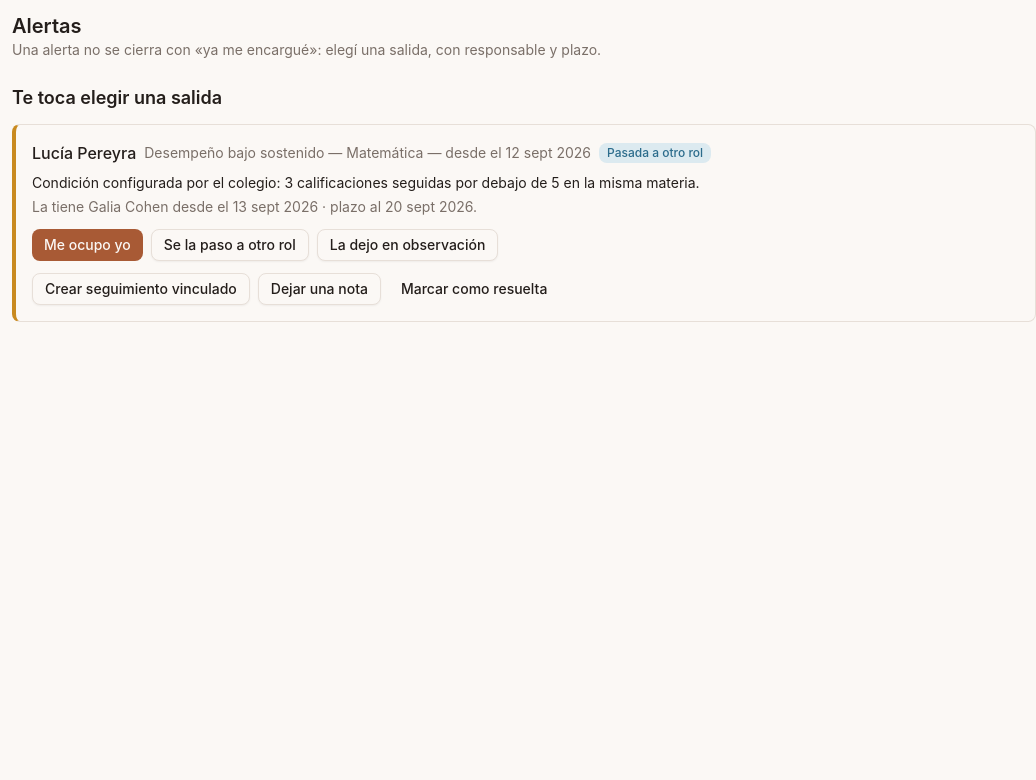
Test: AlertsSection › creates a follow-up linked to the alert without changing the alert
Click the button "Crear seguimiento vinculado" at (141, 289), box [32,273,250,305]
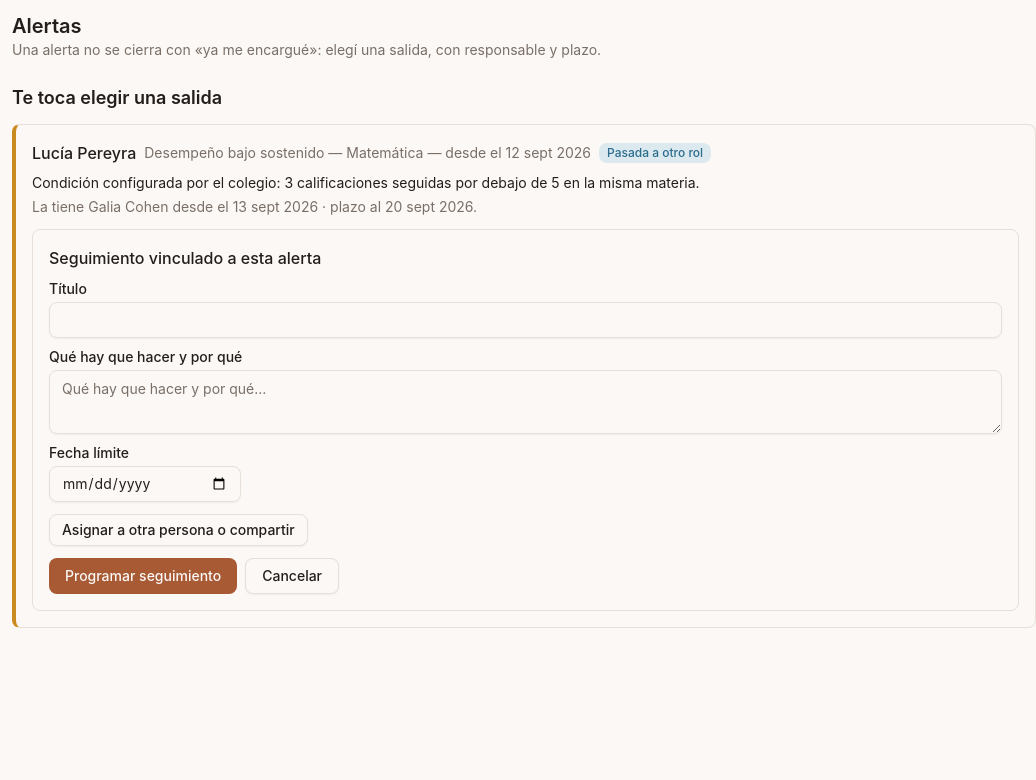
Expected: the text "Seguimiento vinculado a esta alerta" is shown, [49,248,321,268]
Type "Plan con la familia" into the field labelled "Título" at (526, 320), box [49,302,1002,338]
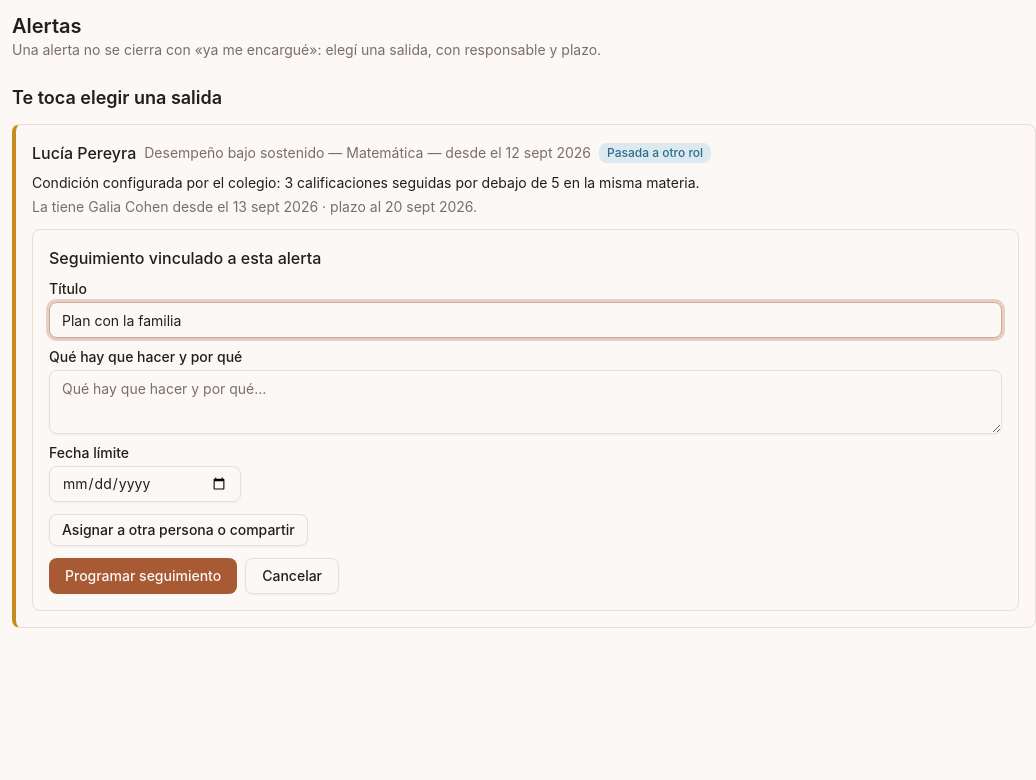
Type "Armar el plan con la familia." into the text box labelled "Qué hay que hacer y por qué" at (526, 402), box [49,370,1002,434]
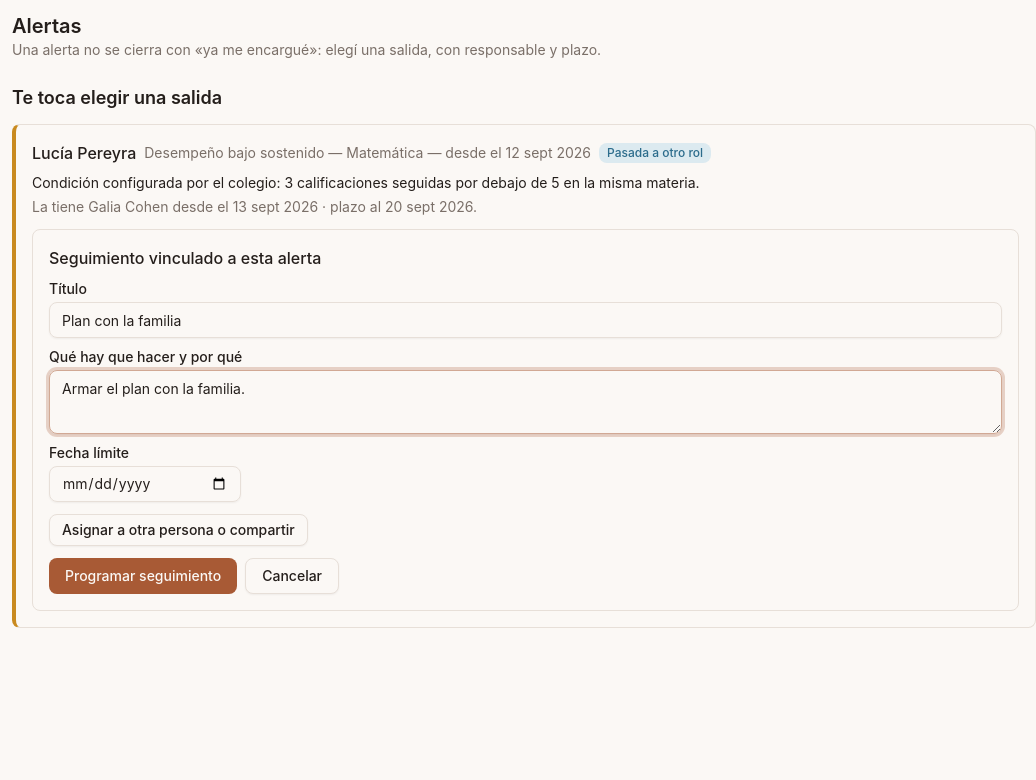
Type "2026-10-30" into the date field labelled "Fecha límite" at (145, 484), box [49,466,241,502]
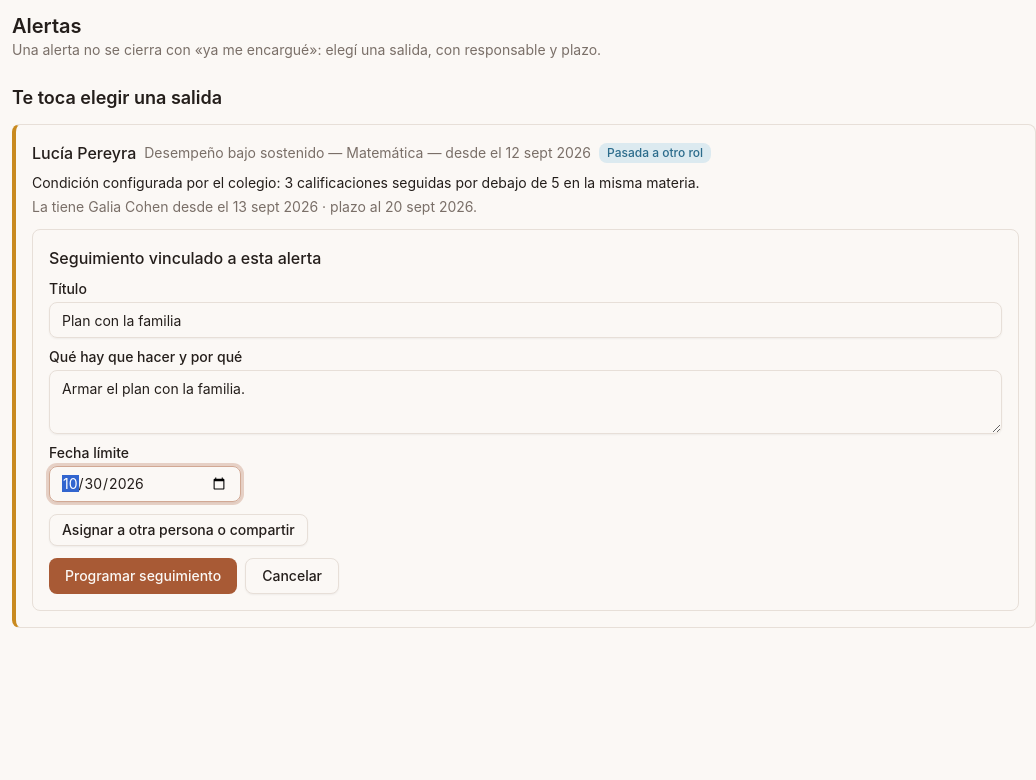
Click the button "Programar seguimiento" at (143, 576), box [49,558,237,594]
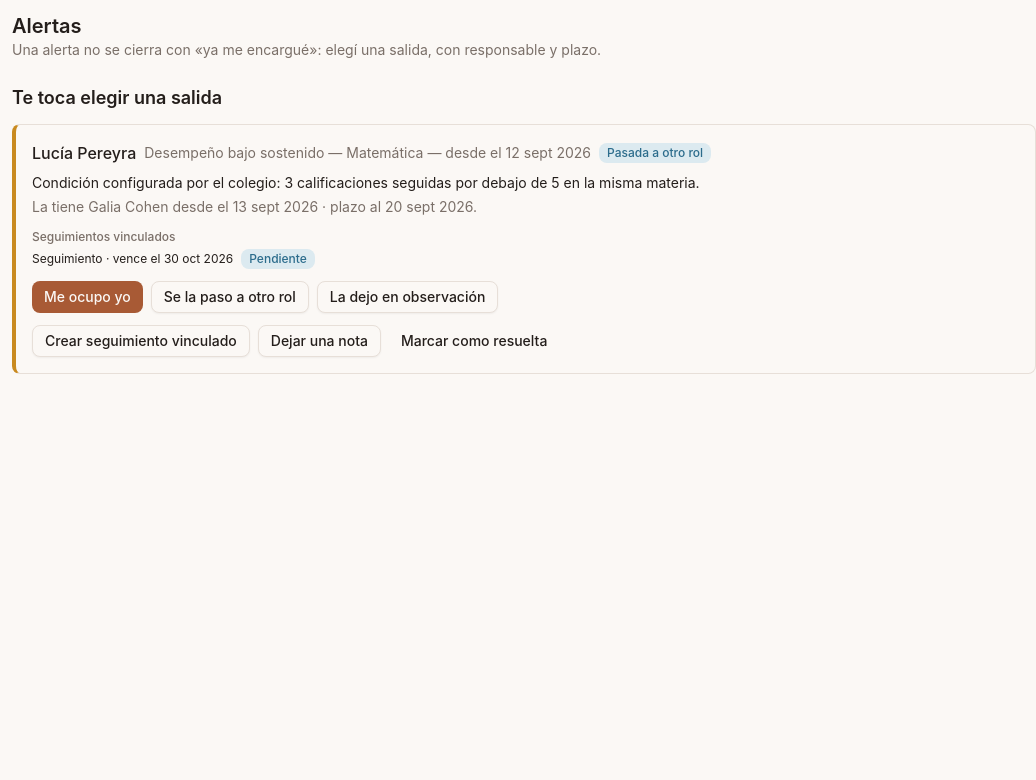
Expected: the text "Pasada a otro rol" is shown, [599,143,711,163]
Expected: the text "Seguimientos vinculados" is shown, [32,229,176,244]
Expected: the text "Pendiente" is shown, [241,249,315,269]
